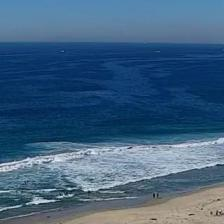surfer: (26, 181, 29, 183), (24, 182, 26, 184)
